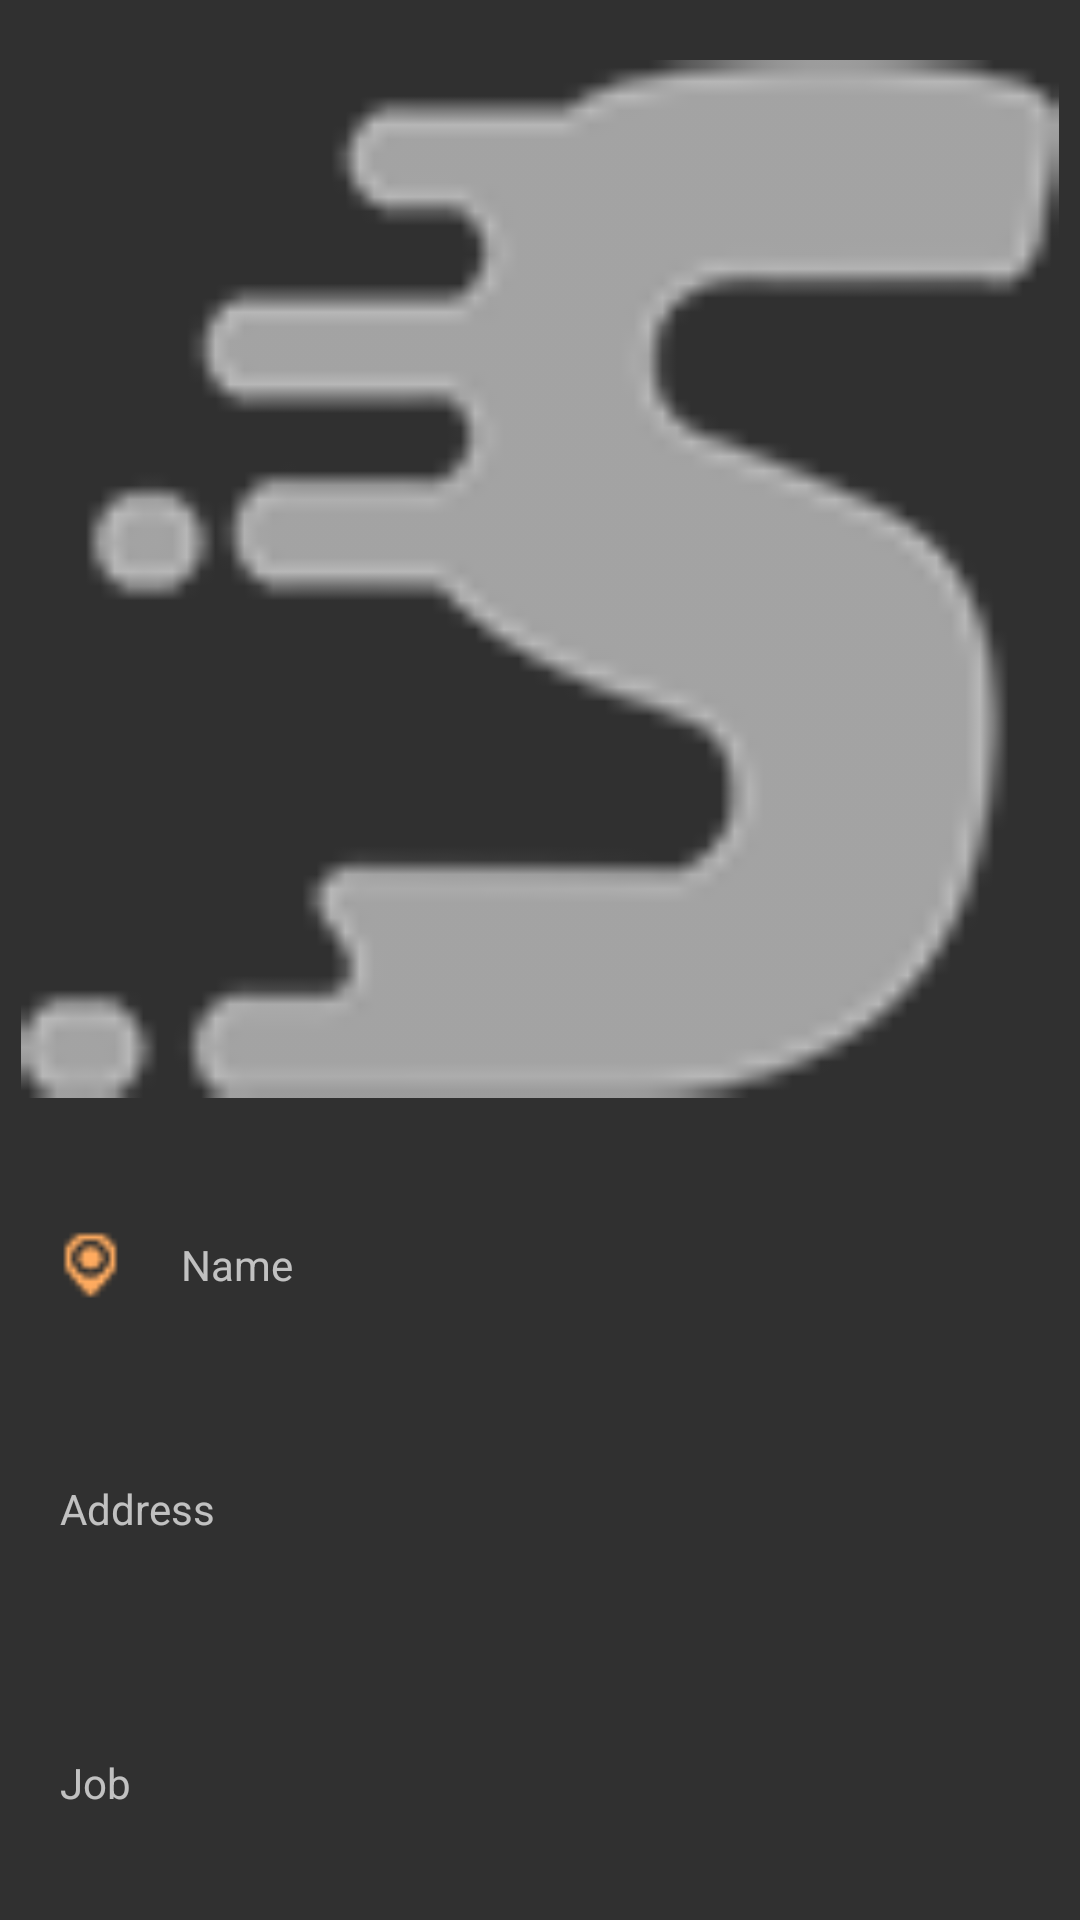

Where icons sit on this 1080 × 1920 app screen, as (x1, y1, x2, y2):
distance: (63, 1232, 118, 1298)
